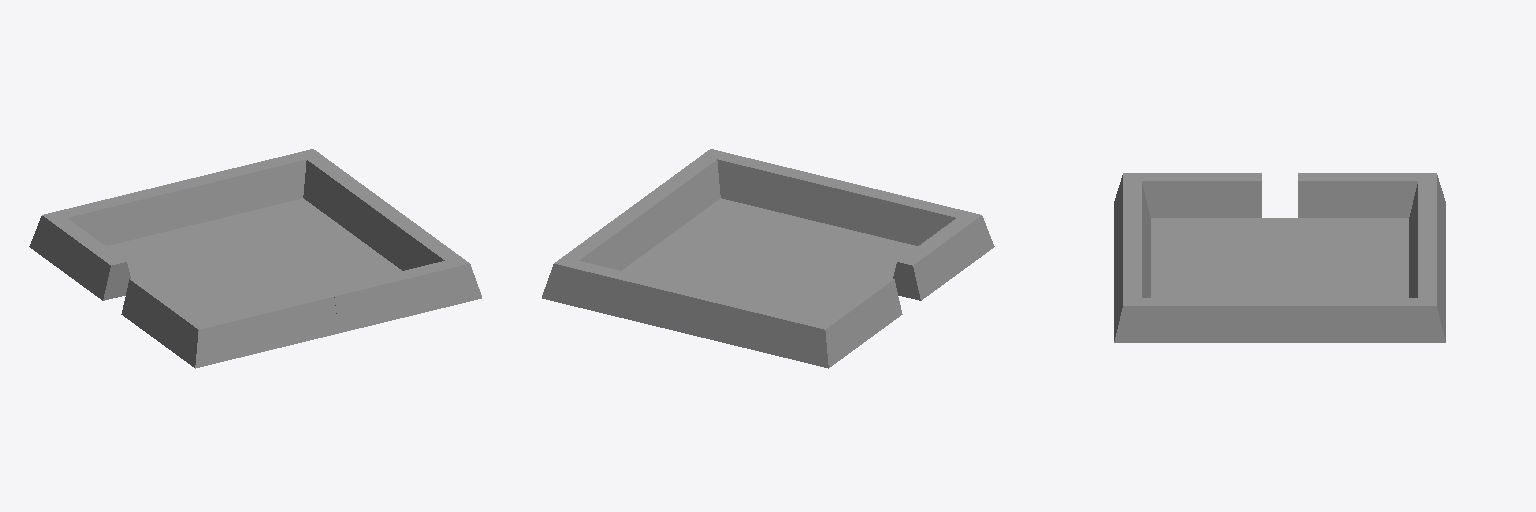
Rendered from sala_2.obj.
3 views of the same model, side by side, from view 1: azimuth 30°, elevation 25°; view 2: azimuth 150°, elevation 25°; view 3: azimuth 270°, elevation 25° (orthographic).
Parts seen in each view (by area): view 1: Ground_Plane, Wall.003_Cube.010, Wall.001_Cube.012, Wall.004_Cube.015, Wall.006_Cube.016, Wall.007_Cube.017, Wall.000_Cube.011, Wall.005_Cube.002, Wall.002_Cube.014; view 2: Ground_Plane, Wall.006_Cube.016, Wall.004_Cube.015, Wall.003_Cube.010, Wall.001_Cube.012, Wall.000_Cube.011, Wall.007_Cube.017, Wall.002_Cube.014, Wall.005_Cube.002; view 3: Ground_Plane, Wall.005_Cube.002, Wall.002_Cube.014, Wall.000_Cube.011, Wall.007_Cube.017, Wall.001_Cube.012, Wall.006_Cube.016, Wall.003_Cube.010, Wall.004_Cube.015.
Part boxes in pixels (x1,y1,x2,y2): Ground_Plane: (106,198,401,318); Wall.003_Cube.010: (326,261,481,332); Wall.001_Cube.012: (195,290,338,368); Wall.004_Cube.015: (178,149,312,224); Wall.006_Cube.016: (44,182,190,245); Wall.007_Cube.017: (29,215,130,300); Wall.000_Cube.011: (121,275,204,367); Wall.005_Cube.002: (303,149,390,244); Wall.002_Cube.014: (368,206,468,270); Ground_Plane: (622,198,917,318); Wall.006_Cube.016: (685,290,828,368); Wall.004_Cube.015: (542,261,697,332); Wall.003_Cube.010: (711,149,845,224); Wall.001_Cube.012: (833,182,979,245); Wall.000_Cube.011: (893,215,994,300); Wall.007_Cube.017: (819,275,902,367); Wall.002_Cube.014: (633,149,720,244); Wall.005_Cube.002: (555,206,655,270); Ground_Plane: (1151,218,1408,297); Wall.005_Cube.002: (1280,298,1445,342); Wall.002_Cube.014: (1114,298,1279,342); Wall.000_Cube.011: (1124,173,1261,217); Wall.007_Cube.017: (1298,173,1435,217); Wall.001_Cube.012: (1114,173,1150,270); Wall.006_Cube.016: (1409,173,1445,270); Wall.003_Cube.010: (1114,239,1150,340); Wall.004_Cube.015: (1409,239,1445,340).
Size of the model in its own units: 18 by 2 by 18.